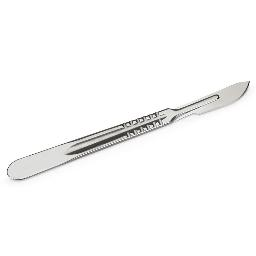scalpel: (6, 80, 252, 182)
